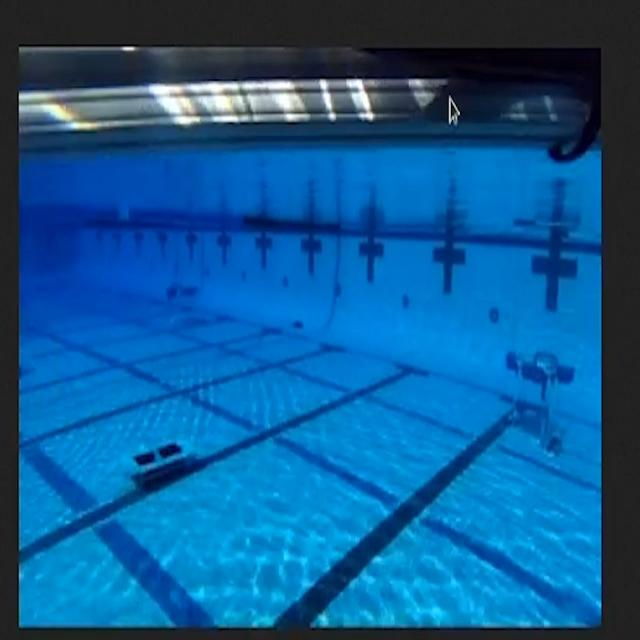Bin: (115, 414, 200, 505)
